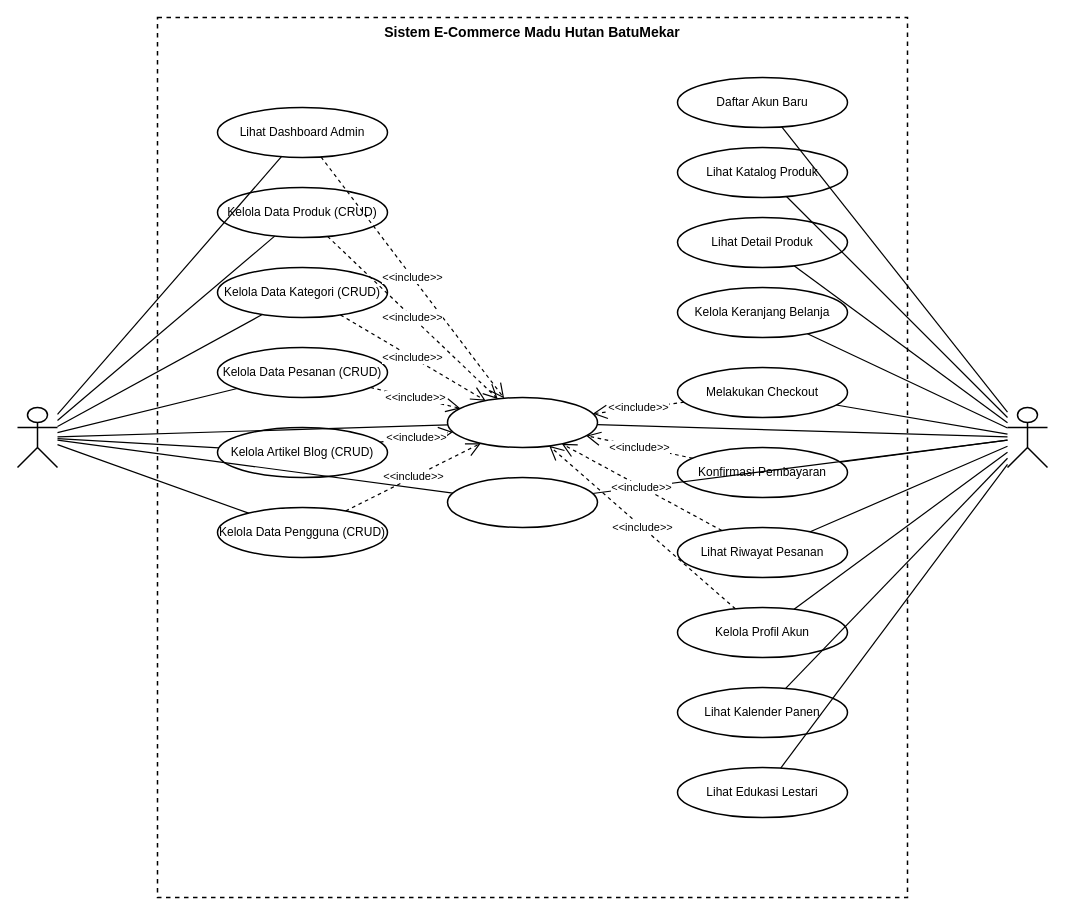
Image size: 1078x916. Some labels were removed from this diagram. The shapes that lost their labels are listed below. From the top down, each one's centre as x and y in pixels, then its label:
At (x=37, y=437): "Admin".
At (x=522, y=422): "Login / Masuk".
At (x=1027, y=437): "Pelanggan".
At (x=522, y=502): "Logout / Keluar".
